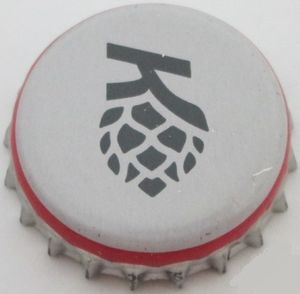kornuit: (4, 1, 300, 288)
